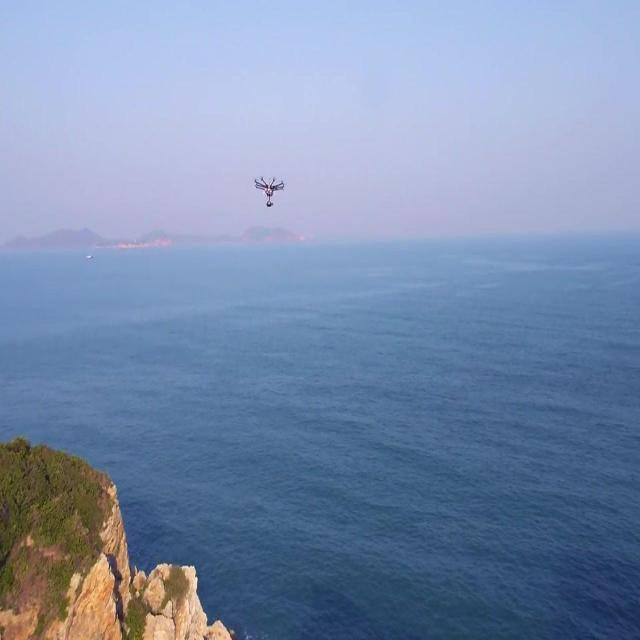drone: (253, 173, 286, 211)
